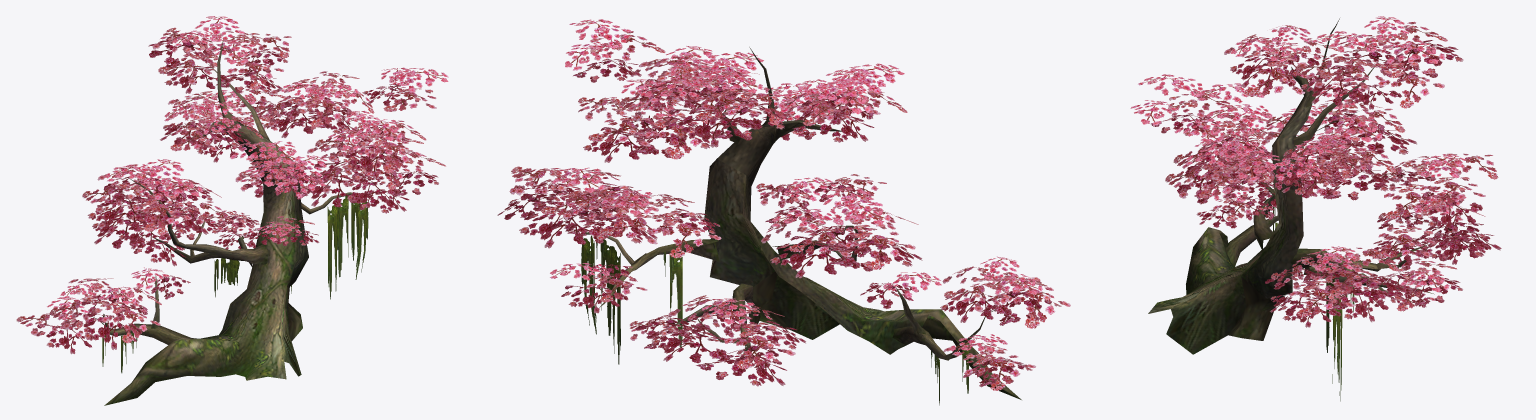
The model's file is S_Tree_Green133_A3.FBX.
3 renders of one model, left to right at view 1: azimuth 30°, elevation 25°; view 2: azimuth 150°, elevation 25°; view 3: azimuth 270°, elevation 25°, orthographic. The views are drawn at different scales.
Parts seen in each view (by area): view 1: S_Tree_Green133_A3_2, S_Tree_Green133_A3_1, S_Tree_Green133_A3_3; view 2: S_Tree_Green133_A3_2, S_Tree_Green133_A3_1, S_Tree_Green133_A3_3; view 3: S_Tree_Green133_A3_2, S_Tree_Green133_A3_1, S_Tree_Green133_A3_3.
Part boxes in pixels (x1,y1,x2,y2): S_Tree_Green133_A3_2: [16, 16, 448, 354]; S_Tree_Green133_A3_1: [92, 38, 352, 405]; S_Tree_Green133_A3_3: [102, 196, 368, 373]; S_Tree_Green133_A3_2: [497, 19, 1070, 390]; S_Tree_Green133_A3_1: [585, 47, 1021, 399]; S_Tree_Green133_A3_3: [581, 235, 968, 405]; S_Tree_Green133_A3_2: [1130, 16, 1501, 327]; S_Tree_Green133_A3_1: [1148, 18, 1434, 354]; S_Tree_Green133_A3_3: [1273, 198, 1354, 401].
Size of the model in its own units: 414 by 268 by 295.
